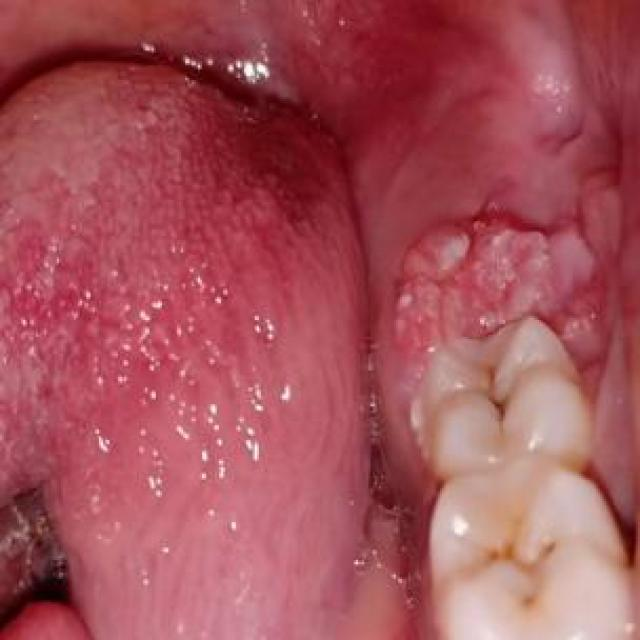cancer-detection: (382, 147, 630, 379)
processing_area: (1, 1, 638, 638)
